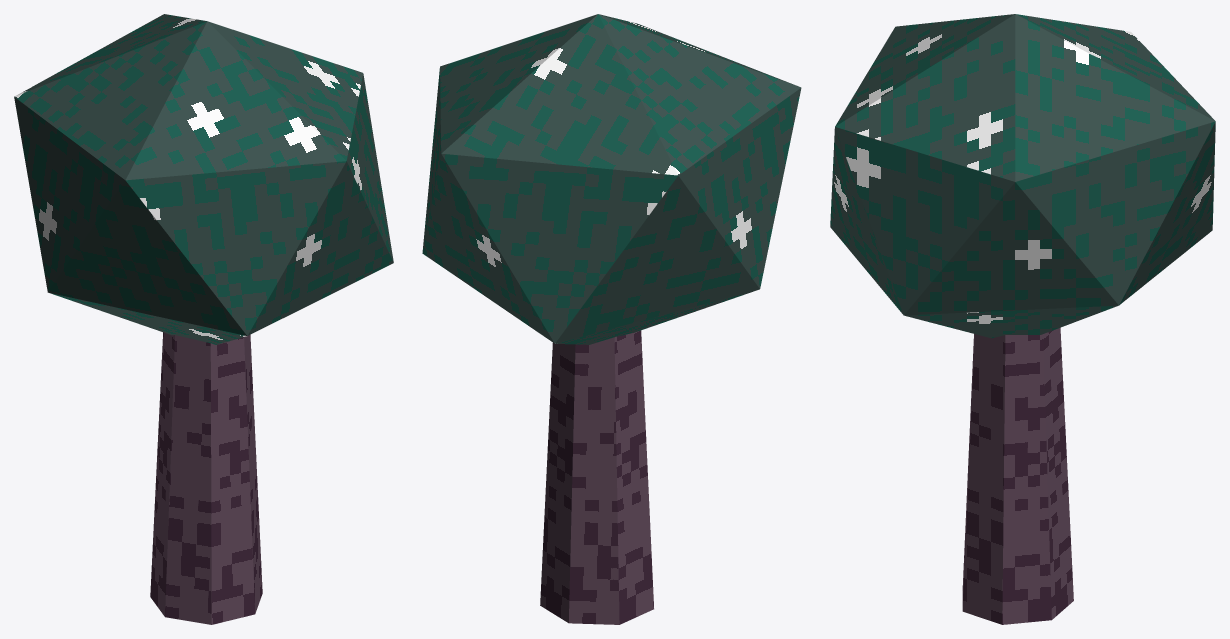
Rendered from r05_arvore_cortavel.glb.
3 renders of one model, left to right at view 1: azimuth 30°, elevation 25°; view 2: azimuth 150°, elevation 25°; view 3: azimuth 270°, elevation 25°, orthographic.
Visible parts, largest first — view 1: r05_arvore_cortavel; view 2: r05_arvore_cortavel; view 3: r05_arvore_cortavel.
Part boxes in pixels (x1=…): r05_arvore_cortavel: x1=14, y1=14, x2=393, y2=624; r05_arvore_cortavel: x1=422, y1=14, x2=801, y2=624; r05_arvore_cortavel: x1=830, y1=14, x2=1215, y2=624.
Size of the model in its own units: 1.89 by 3.32 by 1.98.
2 materials, 2 textured.
